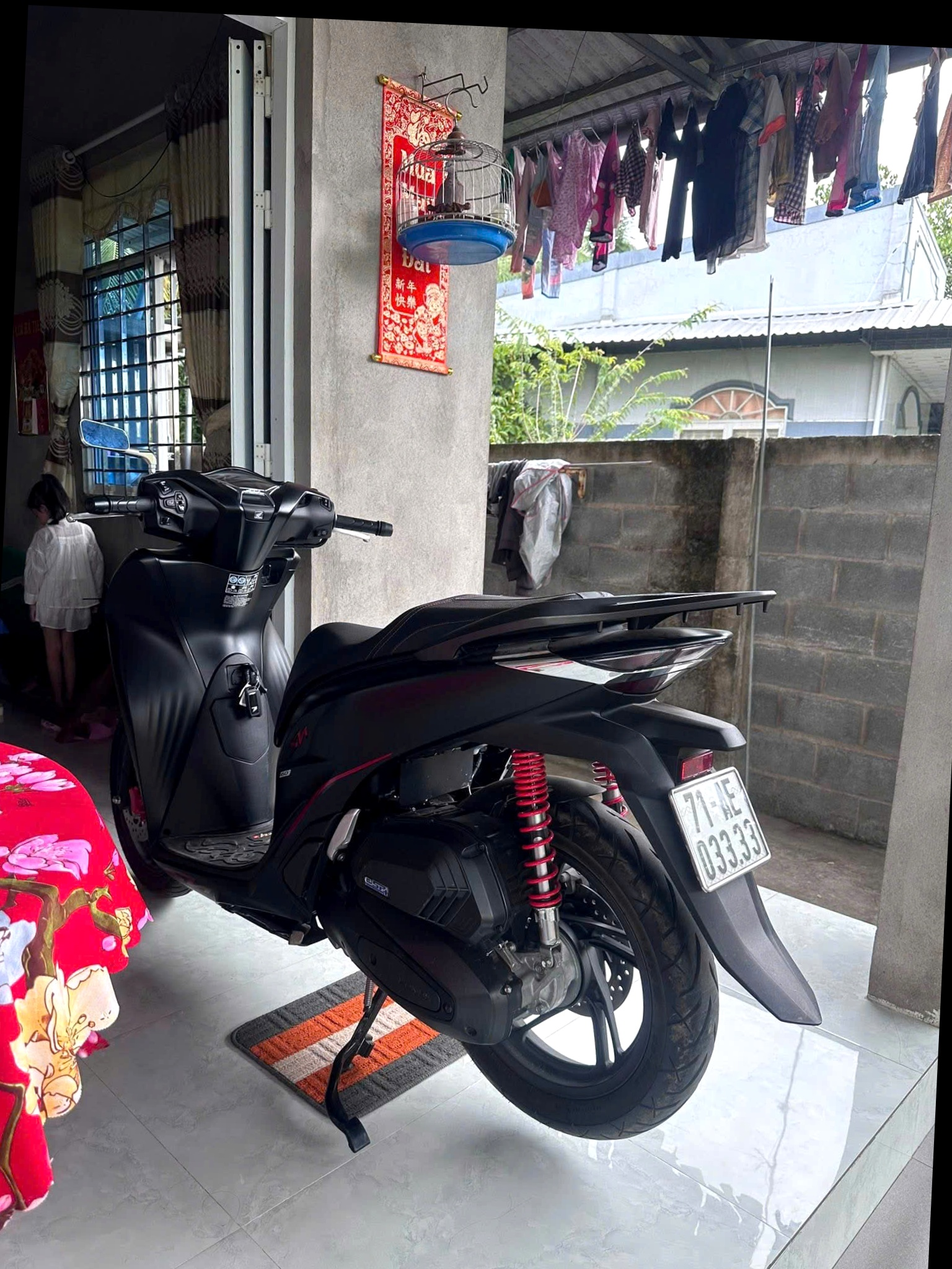Bien-so: (684, 724, 797, 861)
